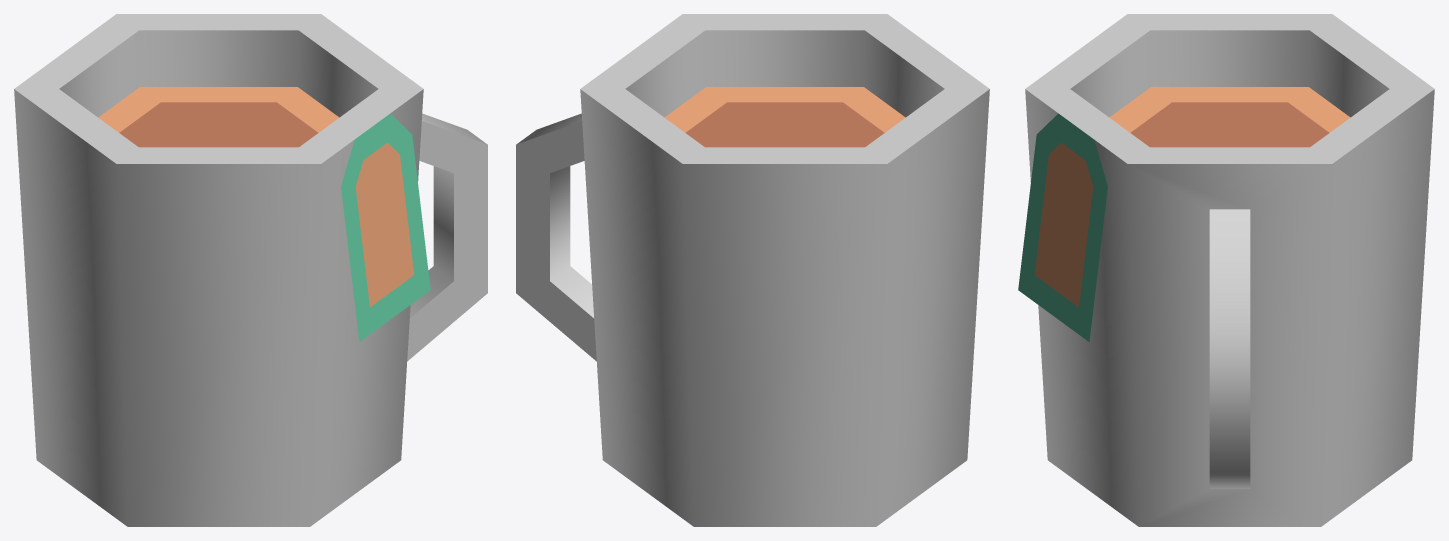
File: cupThea.obj
3 views of the same model, side by side, from view 1: azimuth 30°, elevation 25°; view 2: azimuth 150°, elevation 25°; view 3: azimuth 270°, elevation 25° (orthographic).
Parts seen in each view (by area): view 1: cupThea, label; view 2: cupThea; view 3: cupThea, label.
Part boxes in pixels (<box>): cupThea: <box>14,14,487,526</box>; label: <box>341,113,430,341</box>; cupThea: <box>516,14,989,526</box>; cupThea: <box>1025,14,1434,526</box>; label: <box>1018,113,1107,341</box>.
Size of the model in its own units: 0.2325 by 0.2 by 0.2034.
